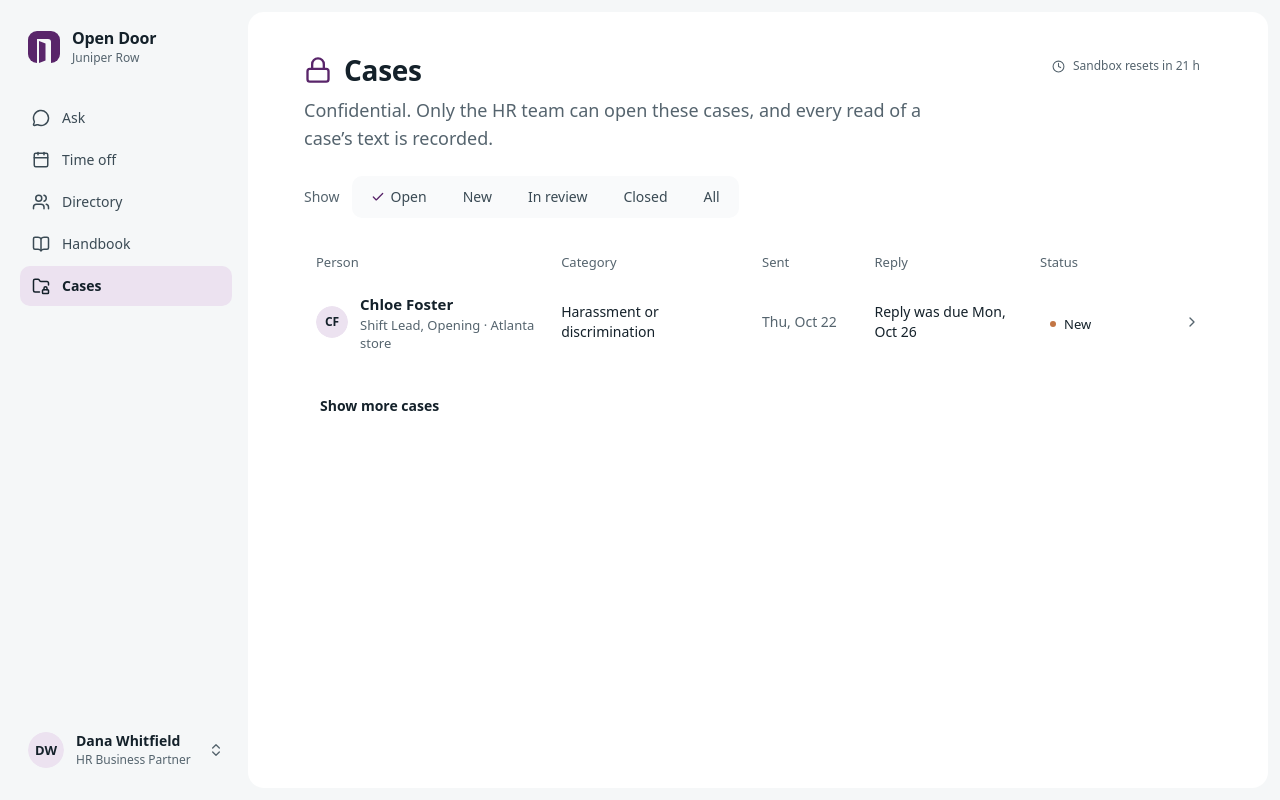
Test: the queue: the page head and paging errors › says so when more cases could not be loaded, and keeps the button
Step 1. Click the button "Show more cases" → (380, 406), box x1=304 y1=386 x2=455 y2=426
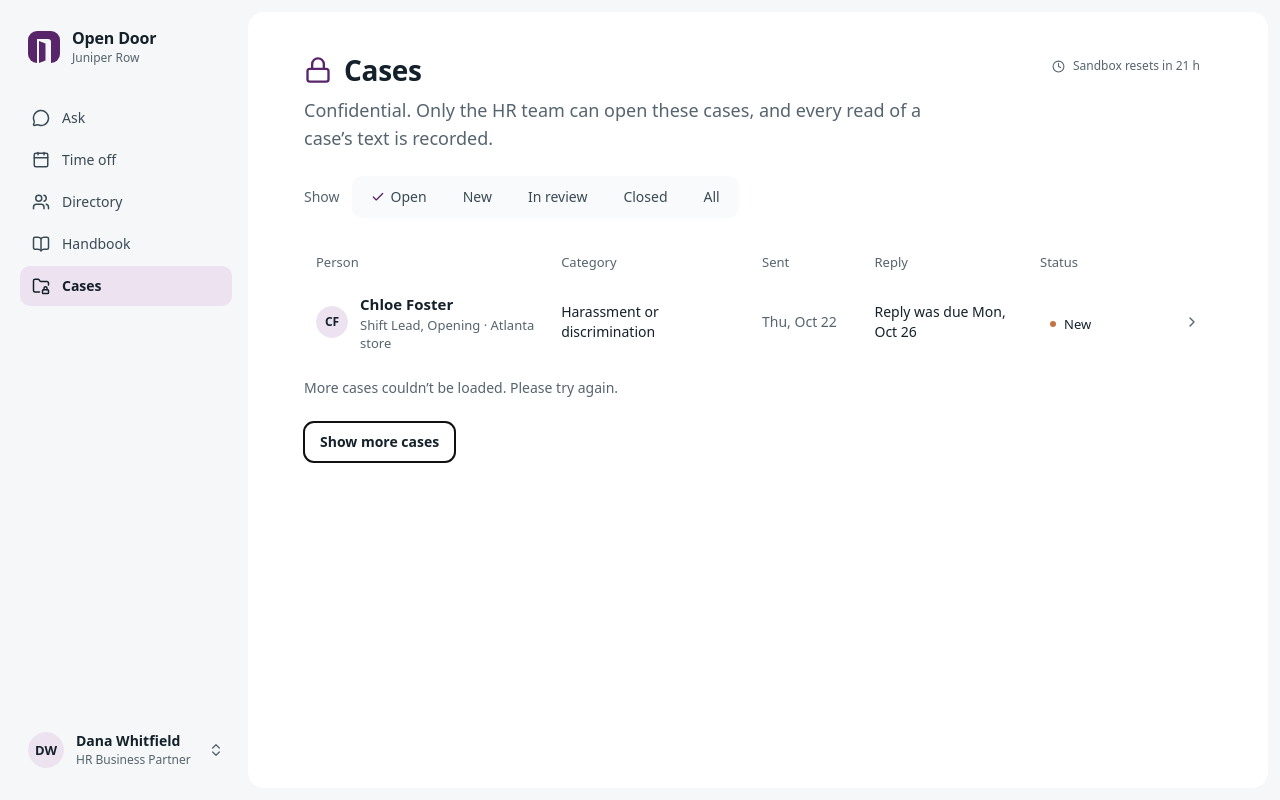
Expected: the button "Show more cases" is shown, x1=304 y1=422 x2=455 y2=462
Expected: the message shows "couldn’t be loaded", x1=304 y1=378 x2=618 y2=397
